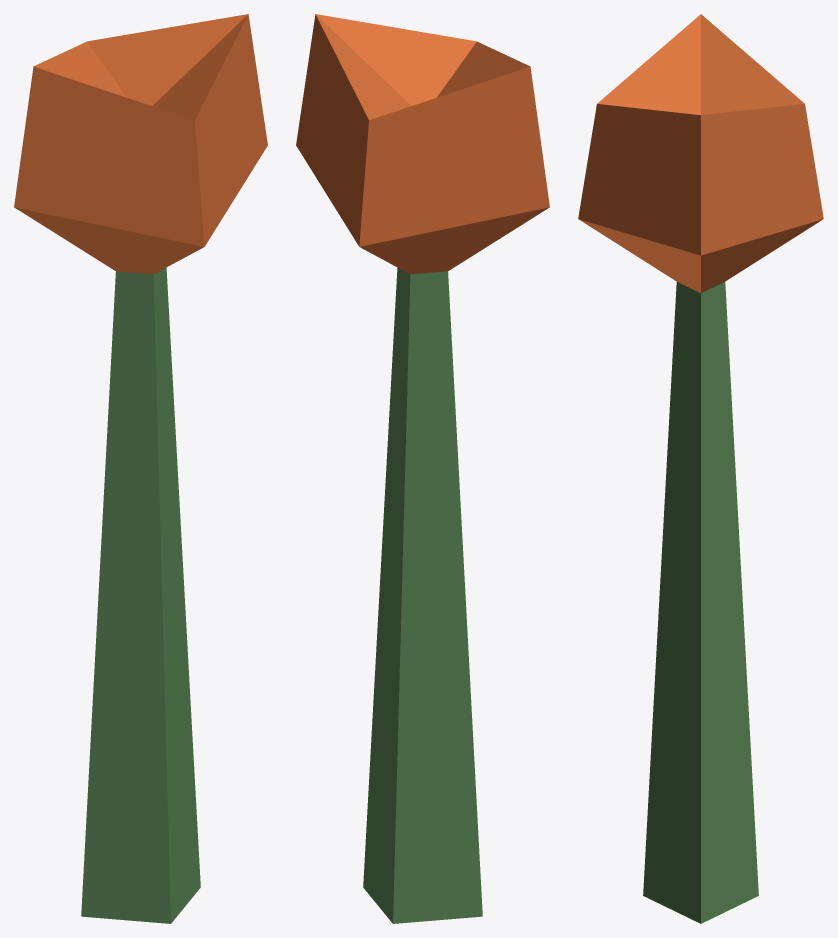
Rendered from flower5.fbx.
3 renders of one model, left to right at view 1: azimuth 30°, elevation 25°; view 2: azimuth 150°, elevation 25°; view 3: azimuth 270°, elevation 25°, orthographic. The views are drawn at different scales.
Parts seen in each view (by area): view 1: flower5; view 2: flower5; view 3: flower5.
Part boxes in pixels (box(x1,y1,x2,y2)): flower5: box(14, 14, 267, 923); flower5: box(296, 14, 549, 923); flower5: box(578, 14, 823, 923).
Bounding box in the file's own units: 7.64 × 24.76 × 6.63.
